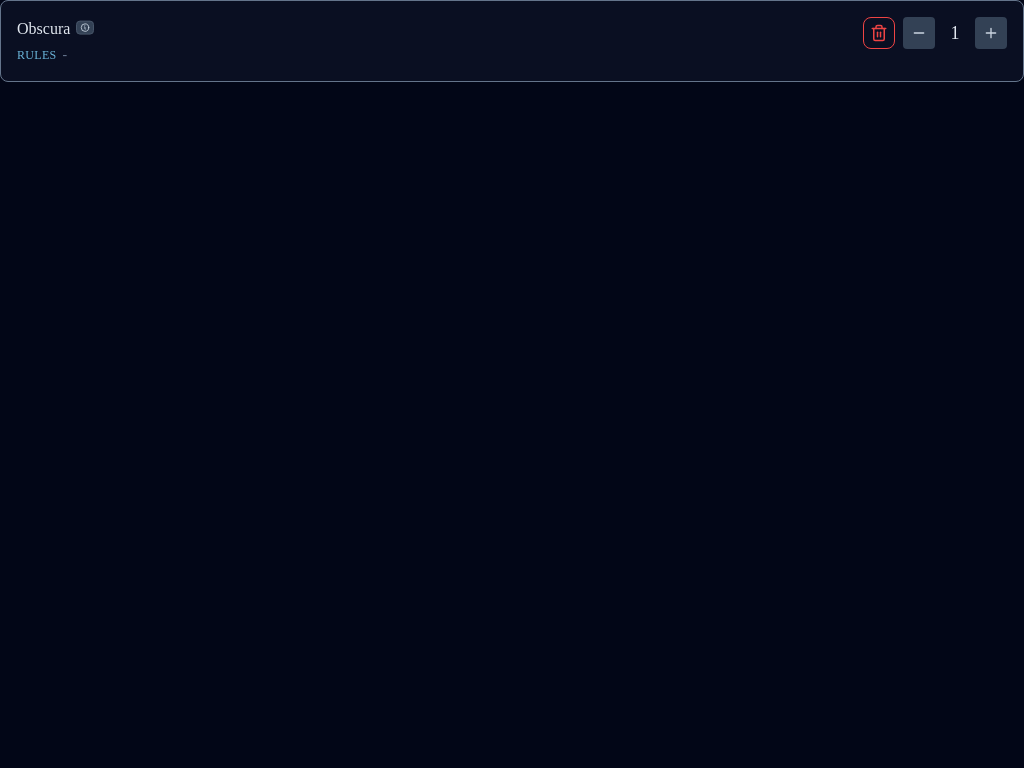
Test: DrugRow › names the Remove pop-up after a Drug
Click the button named "Remove Obscura". click: [879, 33]
box: left=863, top=17, right=895, bottom=49
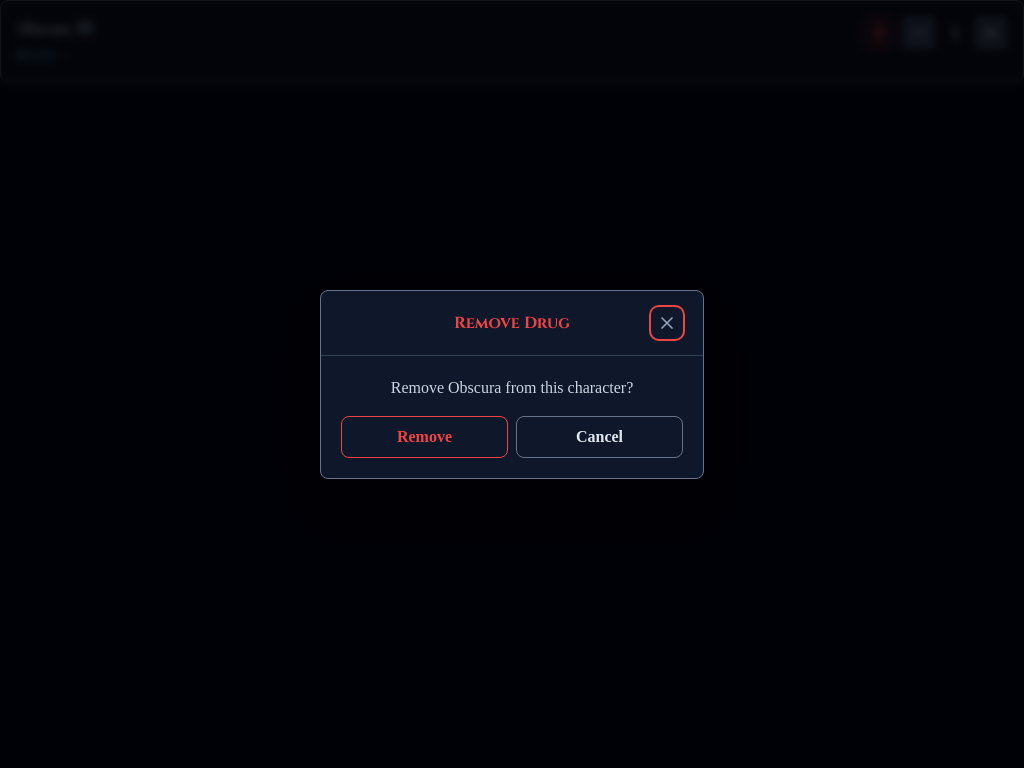
Result: the dialog "Remove Drug" is shown at left=320, top=290, right=704, bottom=478
